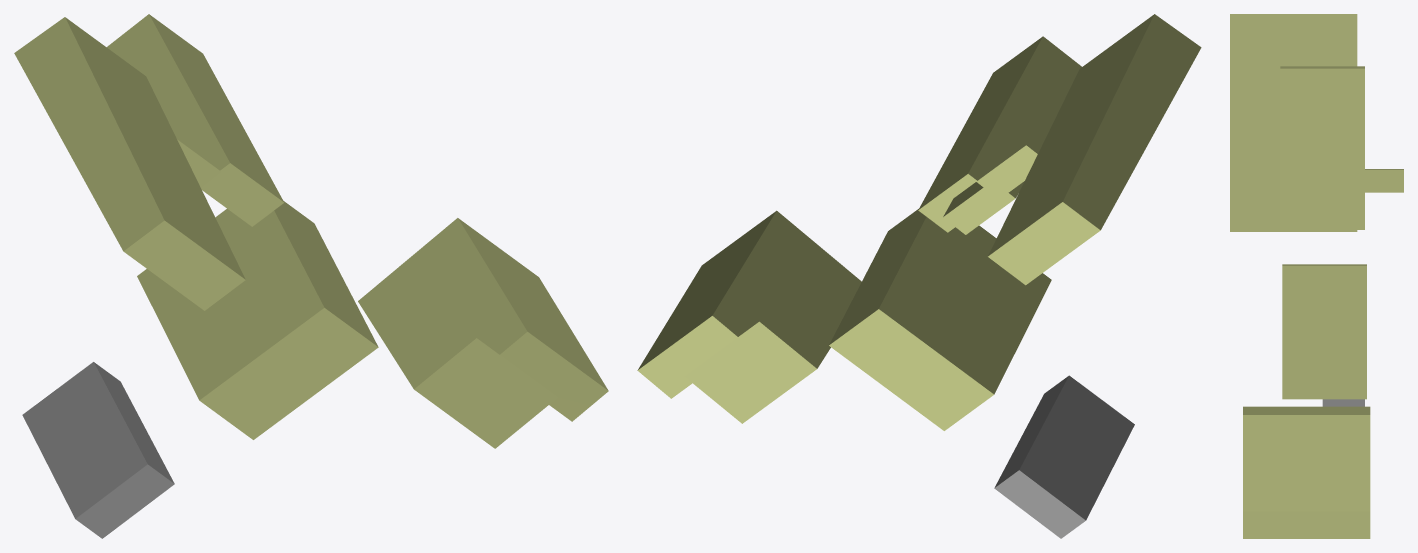
The picture shows the model from 3 angles, left to right: view 1: azimuth 30°, elevation 25°; view 2: azimuth 150°, elevation 25°; view 3: azimuth 270°, elevation 25°; orthographic projection. The views are drawn at different scales.
Visible parts, largest first — view 1: 0_1_1_3_2_2_0_2_3; view 2: 0_1_1_3_2_2_0_2_3; view 3: 0_1_1_3_2_2_0_2_3.
Boxes of the visible parts, x1,y1,x2,y2 form: 0_1_1_3_2_2_0_2_3: (14, 14, 608, 538); 0_1_1_3_2_2_0_2_3: (637, 14, 1201, 538); 0_1_1_3_2_2_0_2_3: (1230, 14, 1403, 538).
Size of the model in its own units: 33.34 by 31.12 by 12.28.
